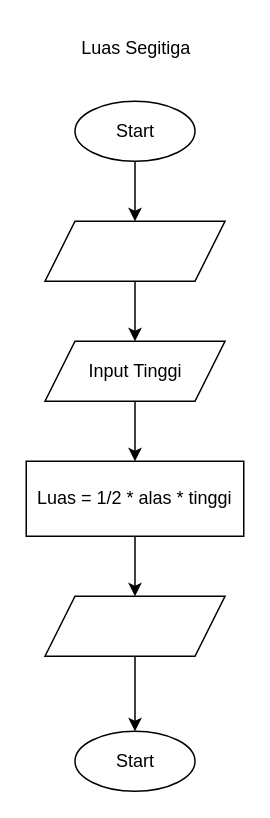
This 270x818 diagram has some shape labels left out. Each missing label, with the box of its shape:
Input Alas: (44, 220, 225, 281)
Output Luas: (44, 595, 225, 656)
